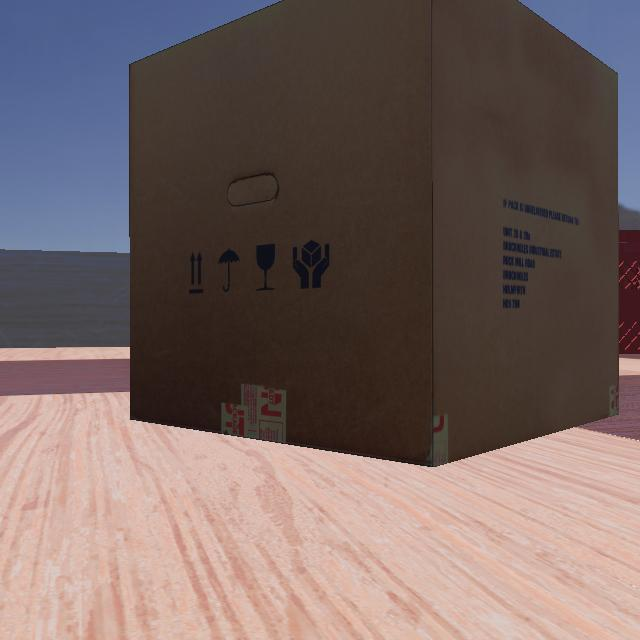cardboard-box: (25, 0, 639, 472)
